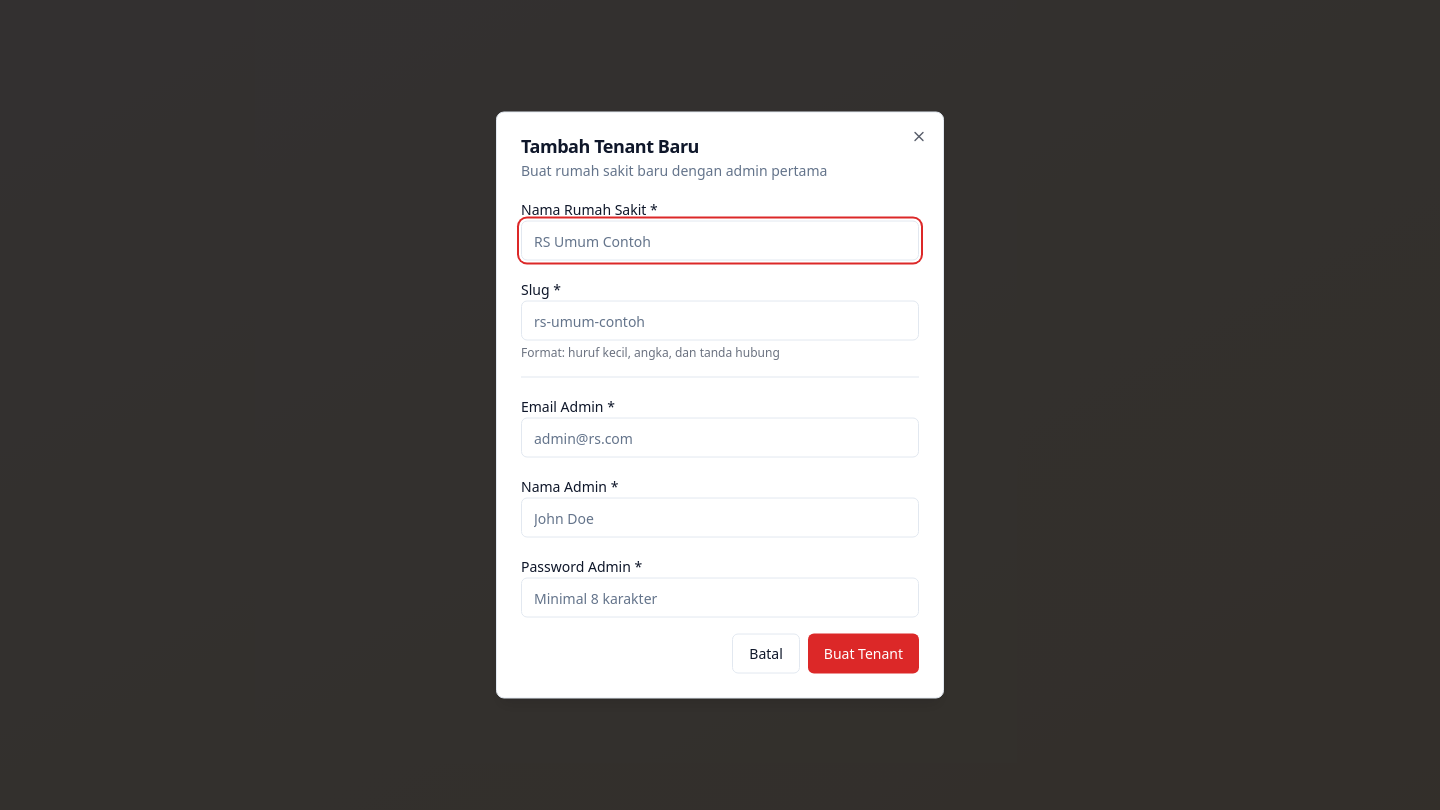
Test case: CreateTenantDialog › should show validation error for short password
Type "123" into the password field labelled "Password Admin *".
click(720, 598); type("123")  # box [521,578,919,618]
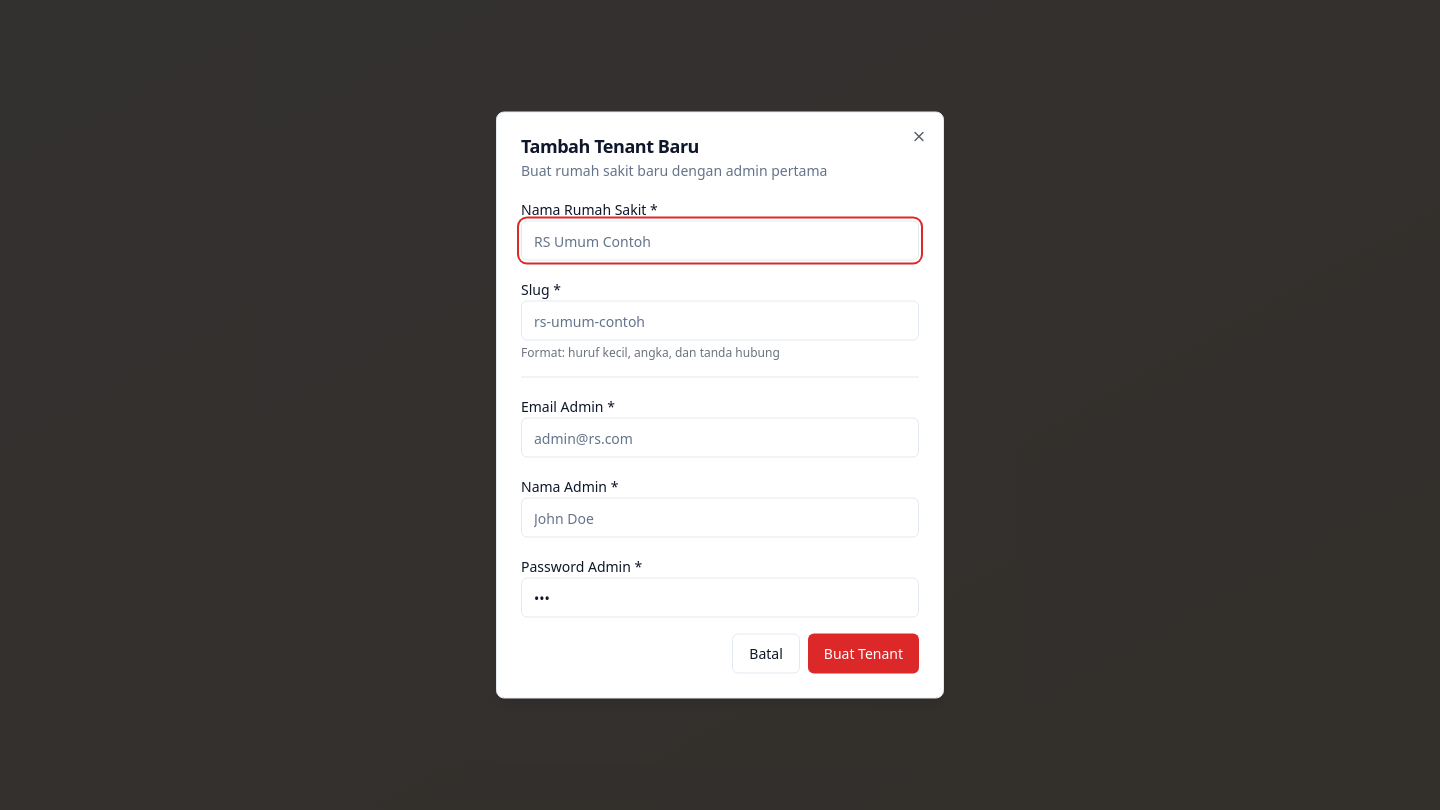
Click the button "Buat Tenant".
click(863, 654)  # box [808,634,919,674]
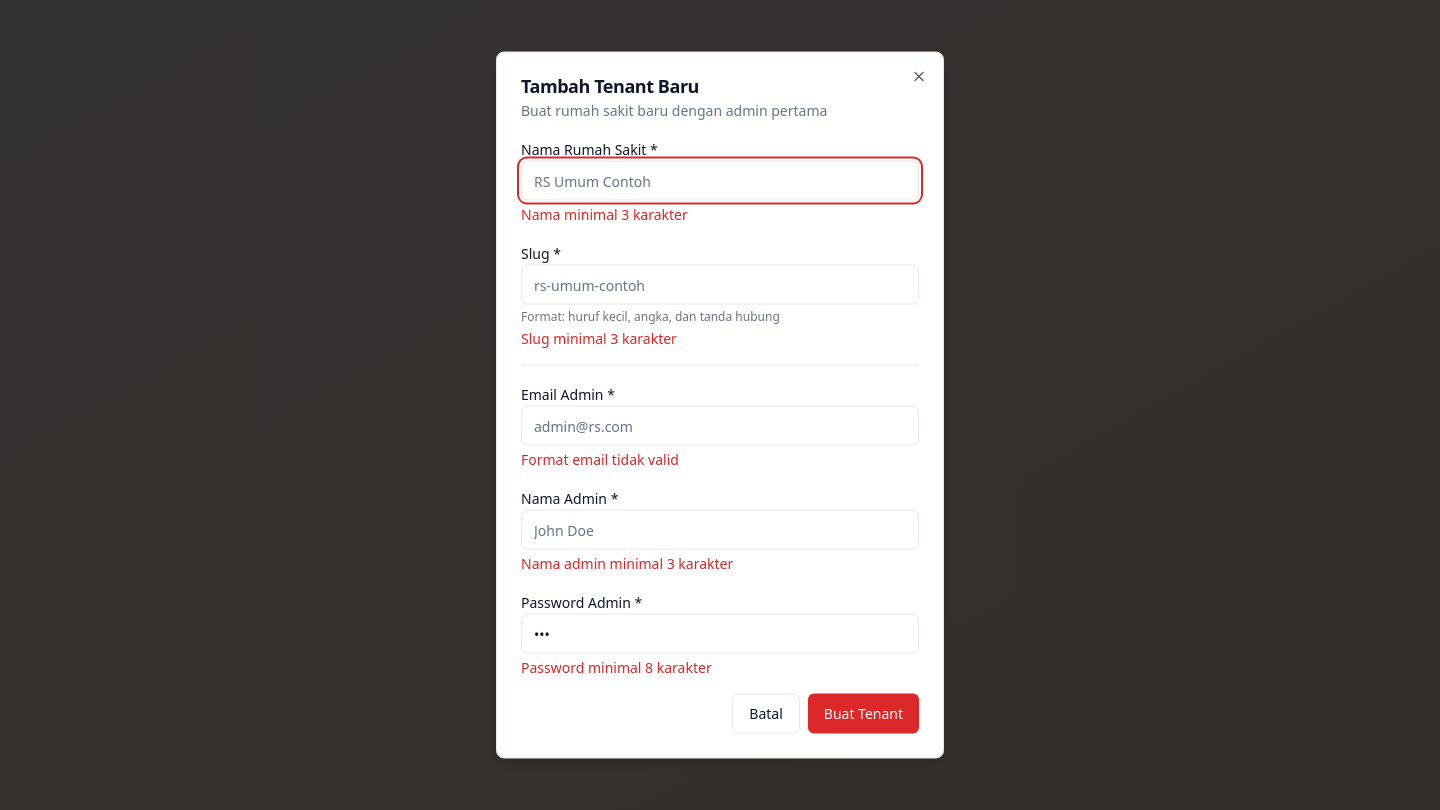
Now the text "Password minimal 8 karakter" is shown, box [521,658,712,676]
